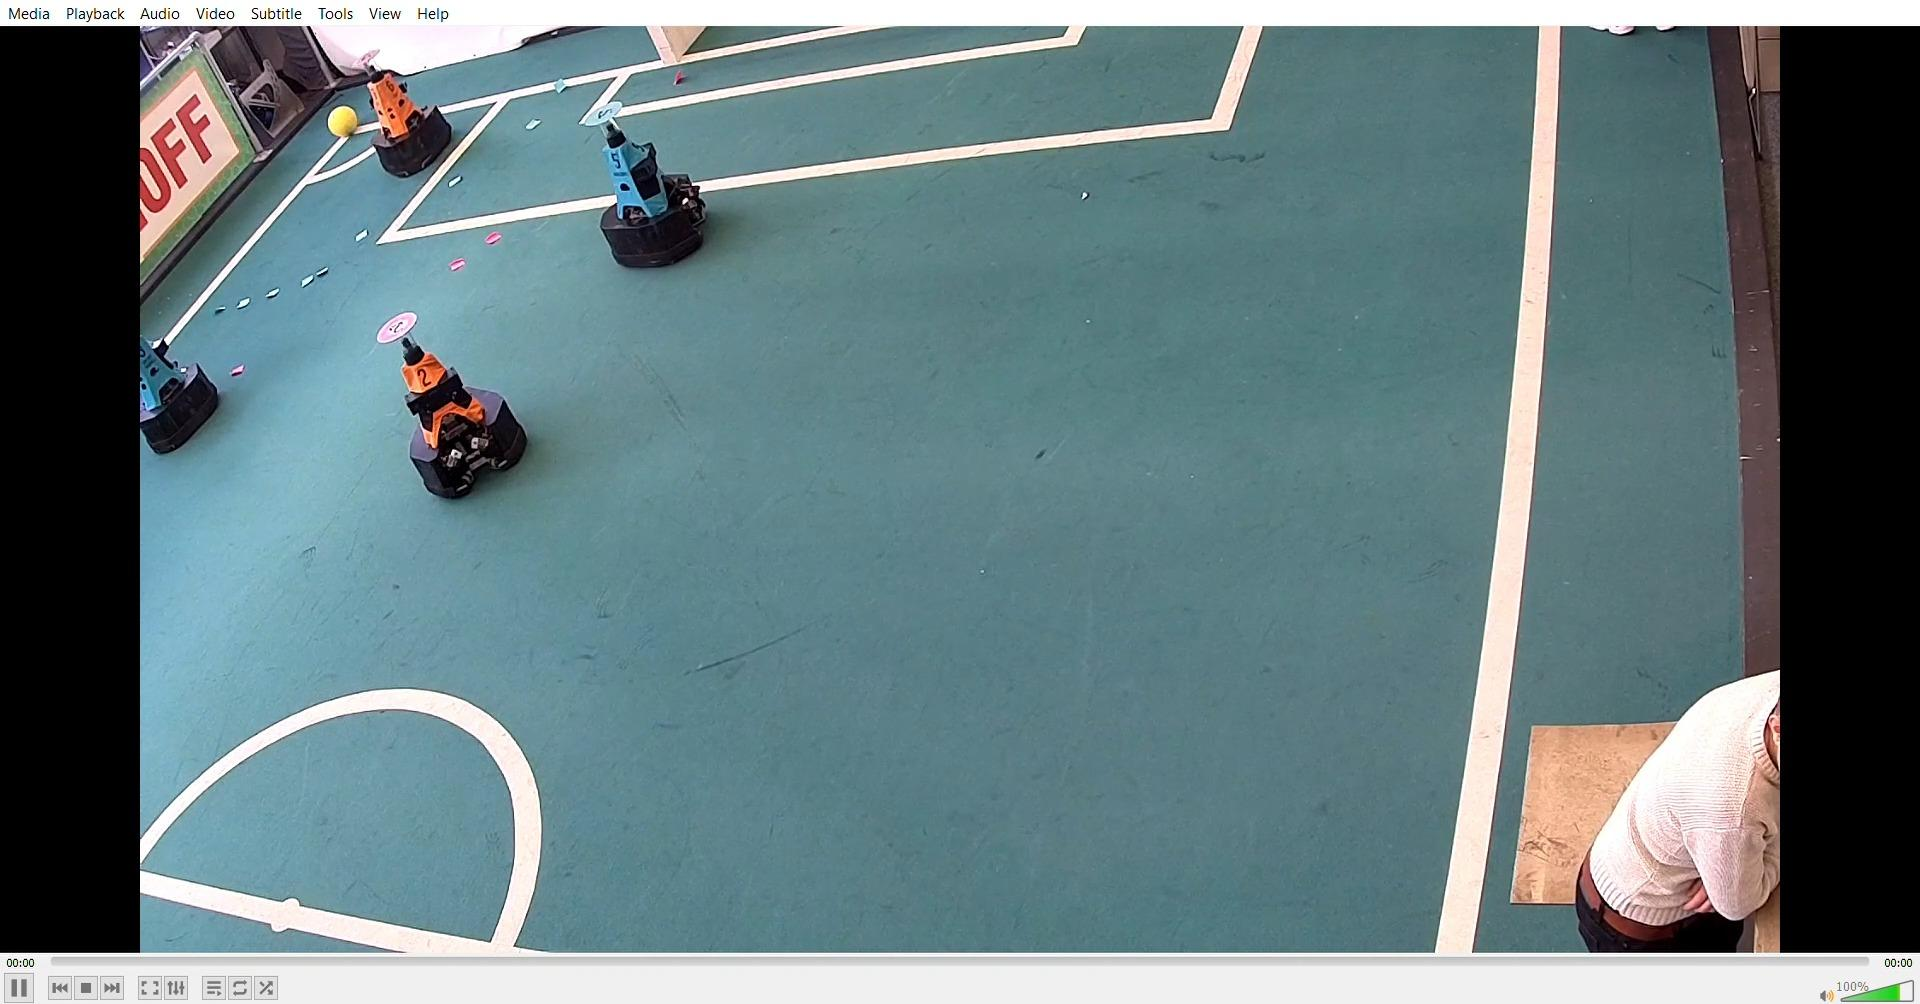Ball: (335, 104, 368, 135)
Team_Blue: (582, 91, 719, 272), (140, 314, 237, 452)
Team_Red: (375, 301, 532, 500), (356, 56, 460, 178)
